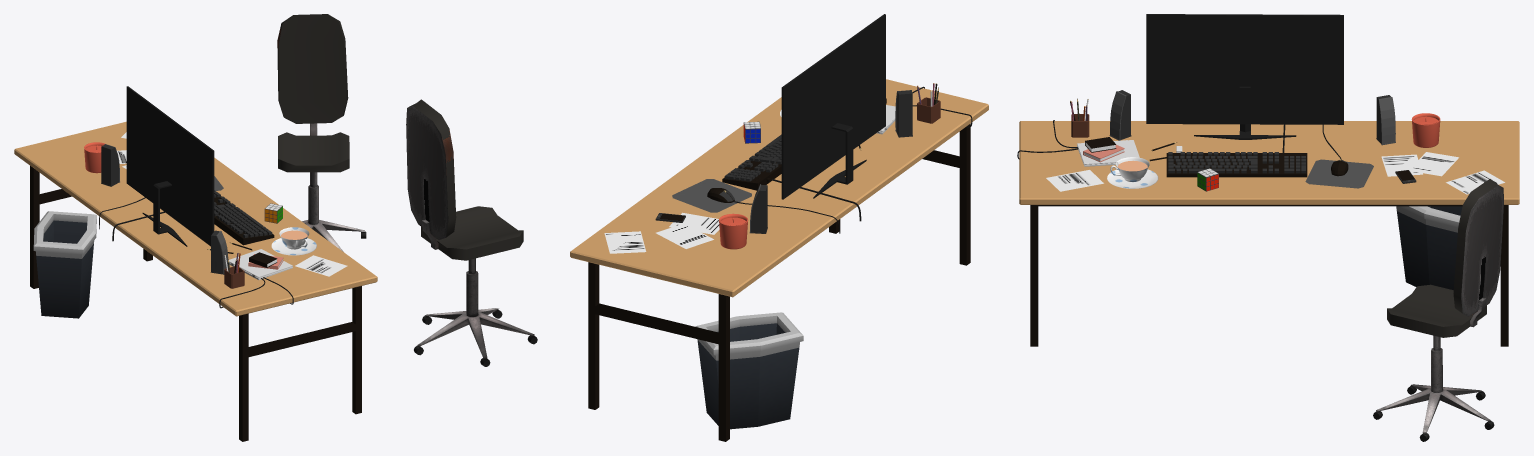
File: desk.glb
3 views of the same model, side by side, from view 1: azimuth 30°, elevation 25°; view 2: azimuth 150°, elevation 25°; view 3: azimuth 270°, elevation 25° (orthographic). The views are drawn at different scales.
Parts seen in each view (by area): view 1: Desk_Desk_0.001, Chair, Computer, Cube.001_2, Desk, PC_Keyboard, PC_Speaker, Paper, Notebook_Notebook_0, Object_2.004, pCylinder1, Books_Books_0 (+1 smaller); view 2: Desk_Desk_0.001, Computer, Chair, Cube.001_2, Desk, Paper, PC_Keyboard, PC_Speaker, Mousepad, Object_2.004; view 3: Desk_Desk_0.001, Computer, Chair, Cube.001_2, PC_Keyboard, Desk, Paper, PC_Speaker, Mousepad, Object_2.004, Books_Books_0, Notebook_Notebook_0 (+1 smaller).
Boxes of the visible parts, x1=… form: Desk_Desk_0.001: x1=14, y1=121, x2=377, y2=316; Chair: x1=277, y1=14, x2=366, y2=251; Computer: x1=126, y1=86, x2=214, y2=246; Cube.001_2: x1=33, y1=211, x2=96, y2=318; Desk: x1=30, y1=166, x2=361, y2=441; PC_Keyboard: x1=214, y1=190, x2=274, y2=245; PC_Speaker: x1=101, y1=144, x2=228, y2=274; Paper: x1=117, y1=132, x2=347, y2=276; Notebook_Notebook_0: x1=228, y1=249, x2=292, y2=280; Object_2.004: x1=84, y1=142, x2=105, y2=173; pCylinder1: x1=271, y1=238, x2=316, y2=255; Books_Books_0: x1=248, y1=252, x2=283, y2=269; Desk_Desk_0.001: x1=570, y1=79, x2=988, y2=297; Computer: x1=781, y1=14, x2=885, y2=199; Chair: x1=406, y1=99, x2=537, y2=366; Cube.001_2: x1=695, y1=312, x2=803, y2=429; Desk: x1=588, y1=123, x2=970, y2=441; Paper: x1=604, y1=212, x2=719, y2=253; PC_Keyboard: x1=722, y1=134, x2=781, y2=190; PC_Speaker: x1=749, y1=90, x2=912, y2=233; Mousepad: x1=672, y1=179, x2=751, y2=212; Object_2.004: x1=719, y1=213, x2=747, y2=249; Desk_Desk_0.001: x1=1019, y1=121, x2=1519, y2=204; Computer: x1=1146, y1=14, x2=1343, y2=139; Chair: x1=1373, y1=179, x2=1503, y2=441; Cube.001_2: x1=1396, y1=206, x2=1462, y2=289; PC_Keyboard: x1=1166, y1=152, x2=1307, y2=177; Desk: x1=1030, y1=205, x2=1508, y2=346; Paper: x1=1046, y1=152, x2=1504, y2=194; PC_Speaker: x1=1109, y1=90, x2=1395, y2=145; Mousepad: x1=1305, y1=159, x2=1373, y2=188; Object_2.004: x1=1411, y1=113, x2=1440, y2=147; Books_Books_0: x1=1083, y1=137, x2=1124, y2=162; Notebook_Notebook_0: x1=1077, y1=140, x2=1139, y2=166.
Bounding box in the file's own units: 23.53 × 16.8 × 27.38.
23 materials, 17 textured.
